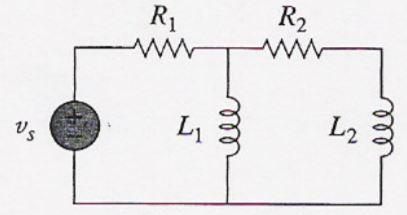inductor: (212, 89, 253, 167), (366, 82, 399, 167)
